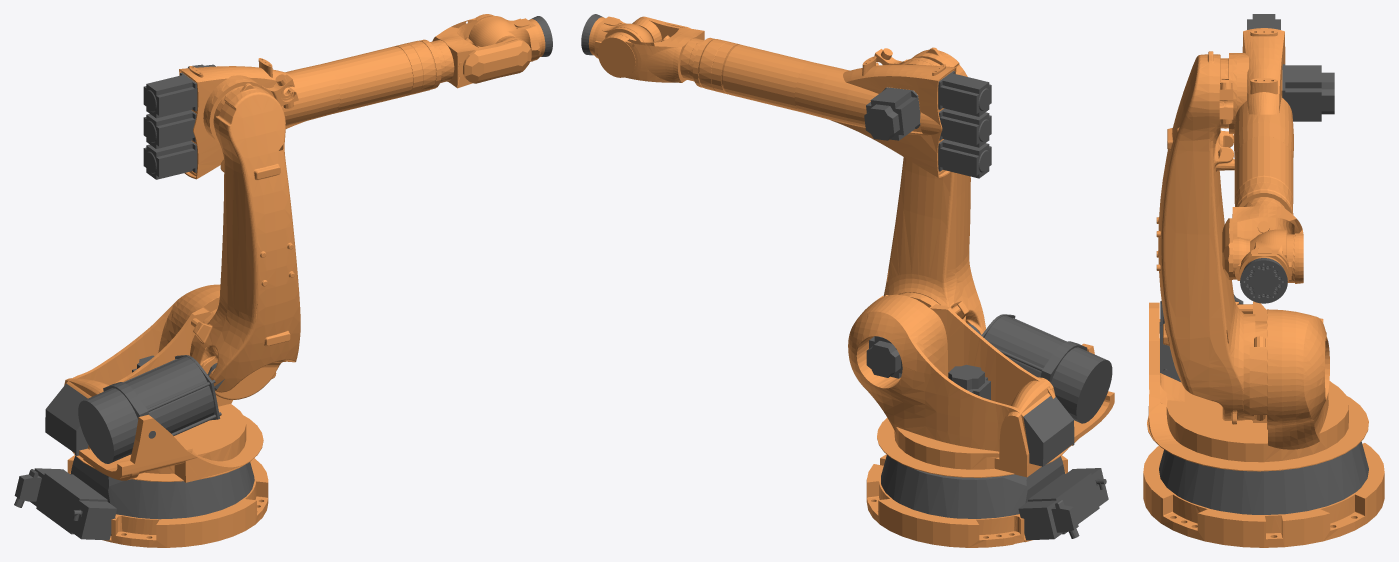
The model's file is kuka-kr210-l150.glb.
3 views of the same model, side by side, from view 1: azimuth 30°, elevation 25°; view 2: azimuth 150°, elevation 25°; view 3: azimuth 270°, elevation 25° (orthographic). The views are drawn at different scales.
Visible parts, largest first — view 1: link_1, link_2, link_3, base_link, link_4, link_5; view 2: link_1, link_3, base_link, link_2, link_4, link_5; view 3: link_2, link_1, base_link, link_3, link_4, link_6, link_5.
Part boxes in pixels (bbox=[...]): link_1: bbox=[45, 284, 263, 482]; link_2: bbox=[190, 83, 300, 399]; link_3: bbox=[143, 46, 413, 179]; base_link: bbox=[14, 455, 268, 547]; link_4: bbox=[395, 14, 531, 95]; link_5: bbox=[469, 16, 545, 61]; link_1: bbox=[848, 294, 1114, 477]; link_3: bbox=[721, 44, 991, 178]; base_link: bbox=[866, 454, 1108, 547]; link_2: bbox=[883, 47, 985, 334]; link_4: bbox=[598, 16, 739, 94]; link_5: bbox=[588, 16, 653, 70]; link_2: bbox=[1156, 51, 1266, 424]; link_1: bbox=[1147, 294, 1368, 471]; base_link: bbox=[1143, 441, 1384, 547]; link_3: bbox=[1219, 14, 1334, 203]; link_4: bbox=[1222, 177, 1303, 283]; link_6: bbox=[1240, 258, 1287, 303]; link_5: bbox=[1235, 229, 1292, 282].
Size of the model in its own units: 2.76 by 2.21 by 0.9994.
